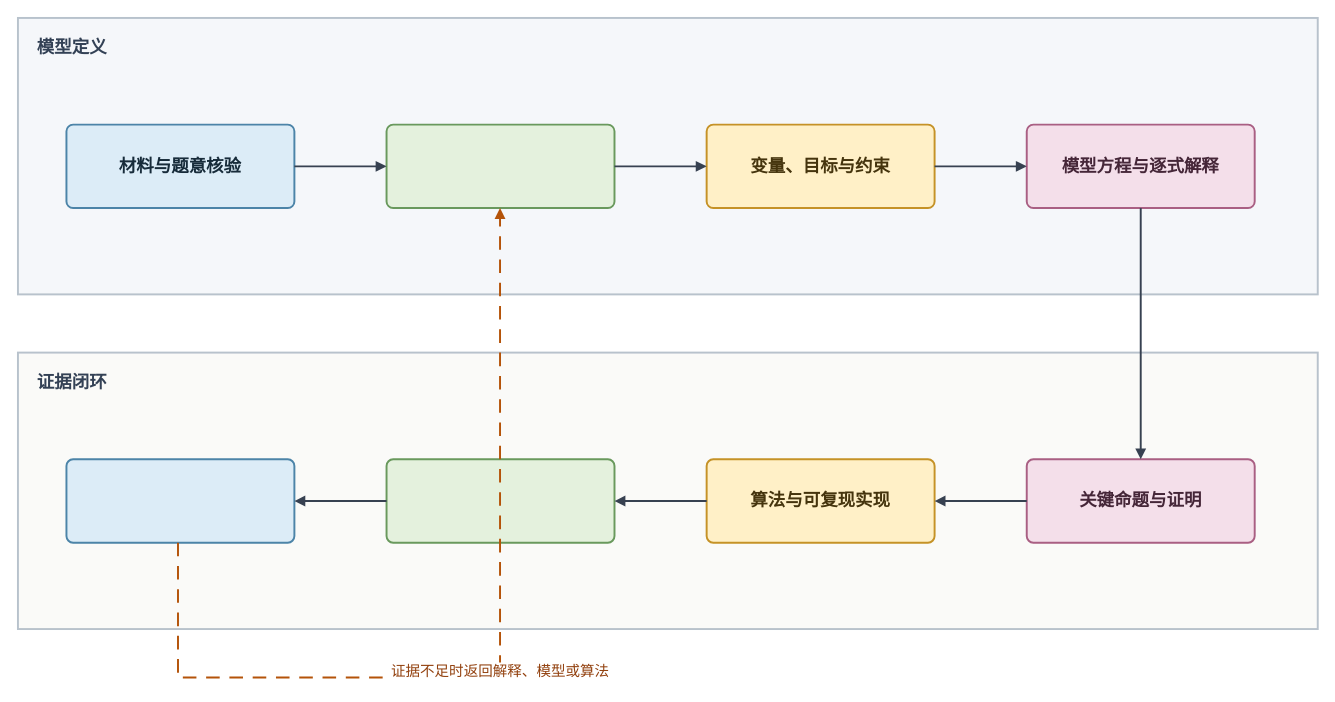
The diagram is 1335 pixels wide and 702 high, and some of its shapes have lost their labels. Here are the shapes that lost their labels. From the top down, the box of each, then its label:
(385, 123, 615, 209): 解释候选与用户确认
(65, 458, 295, 543): 验证与直接结论
(385, 458, 615, 543): 结果图表与逐图分析
